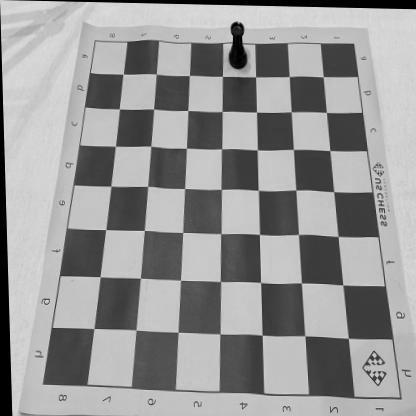black-rook: (228, 20, 248, 68)
